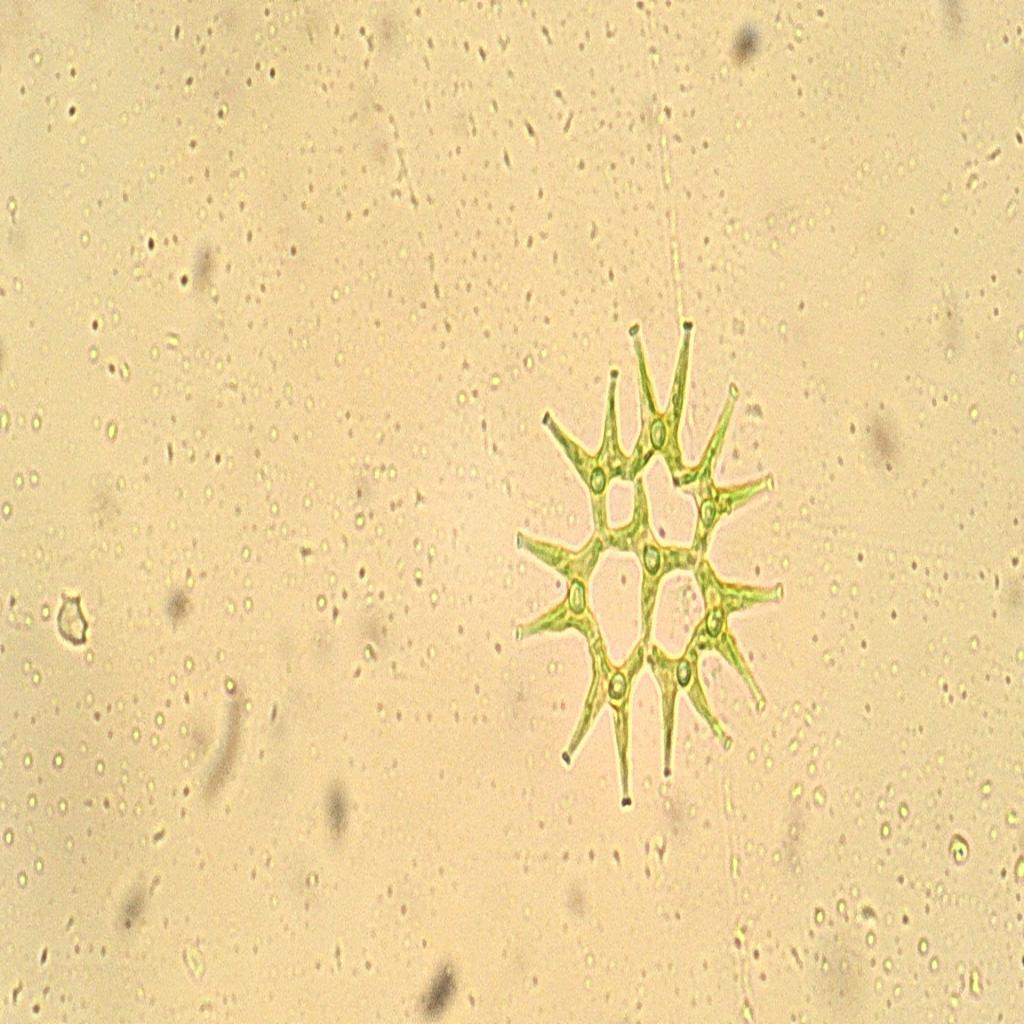Pediastrum_CTH: (502, 307, 804, 815)
